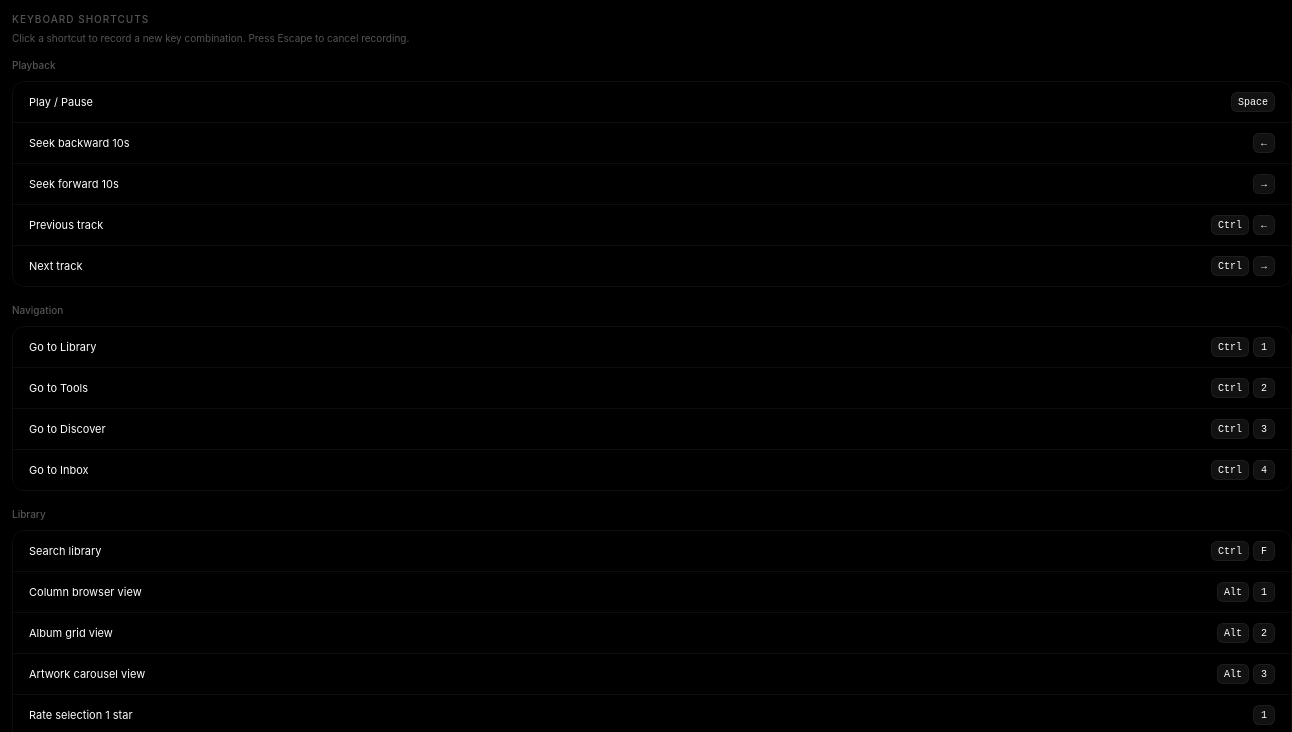
Test: ShortcutsSection › rejects fixed combos like mod+Z (undo)
The image size is (1292, 732).
Step 1. Click the button with test id "shortcut-focusSearch" → (1239, 551), box [1203,541,1275,561]
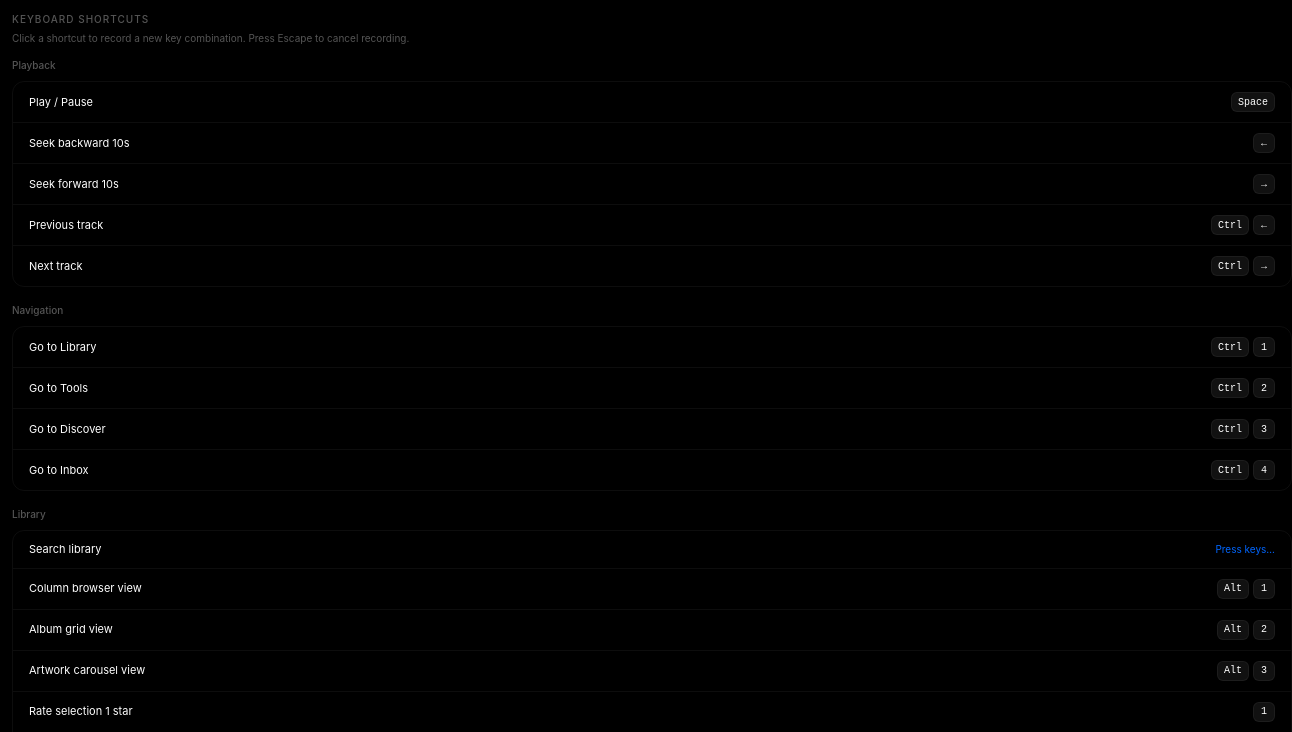
Step 2. Press KeyZ
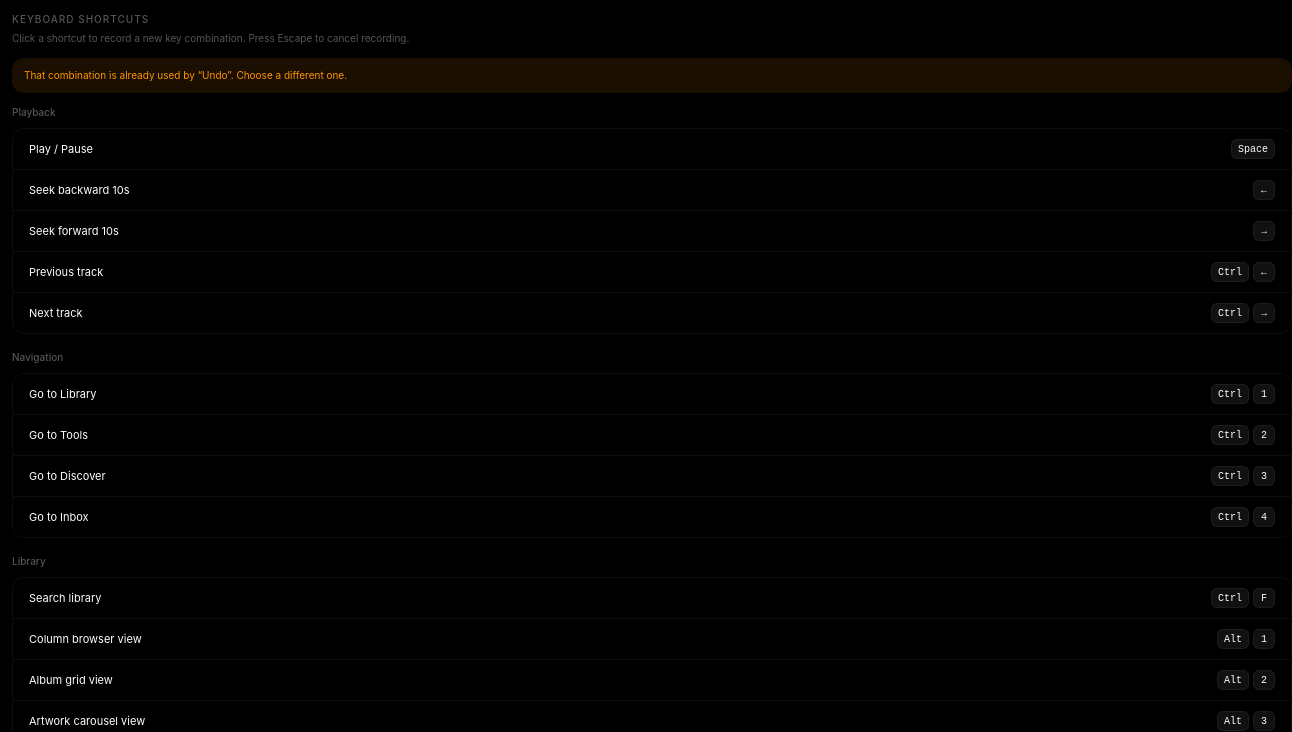
Expected: the message shows "Undo", [202,69,227,81]
